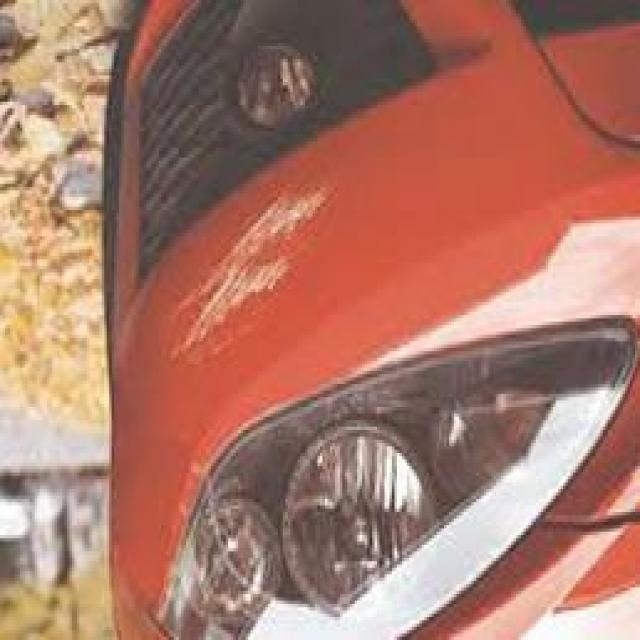scratch: (139, 166, 355, 395)
